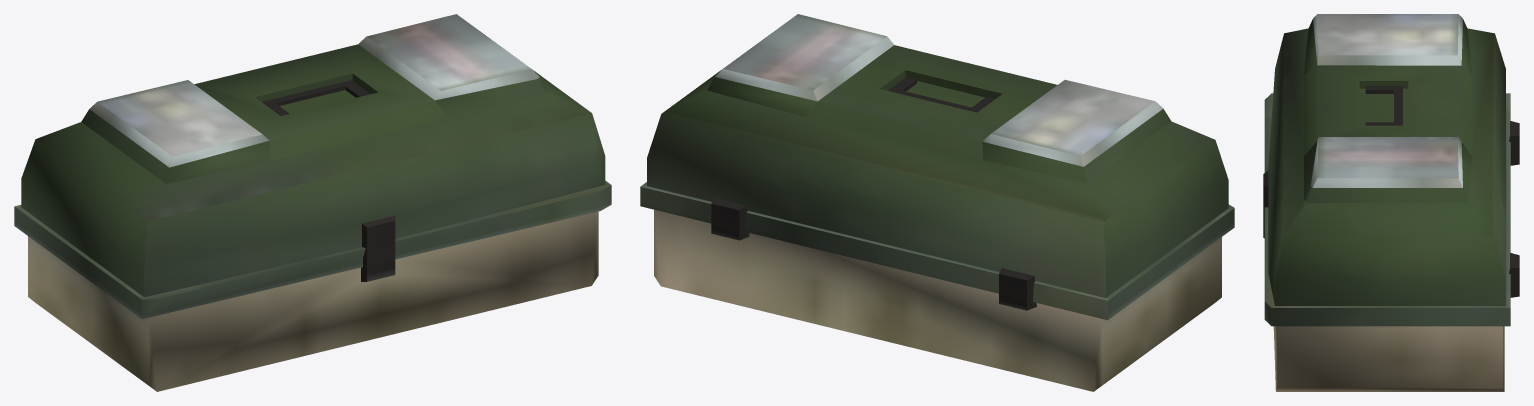
The model's file is cove-tackle-box.lod1.glb.
The picture shows the model from 3 angles, left to right: view 1: azimuth 30°, elevation 25°; view 2: azimuth 150°, elevation 25°; view 3: azimuth 270°, elevation 25°; orthographic projection. The views are drawn at different scales.
Visible parts, largest first — view 1: Object_6; view 2: Object_6; view 3: Object_6.
Boxes of the visible parts, x1,y1,x2,y2 form: Object_6: [14, 14, 611, 391]; Object_6: [640, 14, 1234, 391]; Object_6: [1263, 14, 1519, 391].
Size of the model in its own units: 0.5377 by 0.2294 by 0.2711.
Materials: 1 (1 with a texture image).
